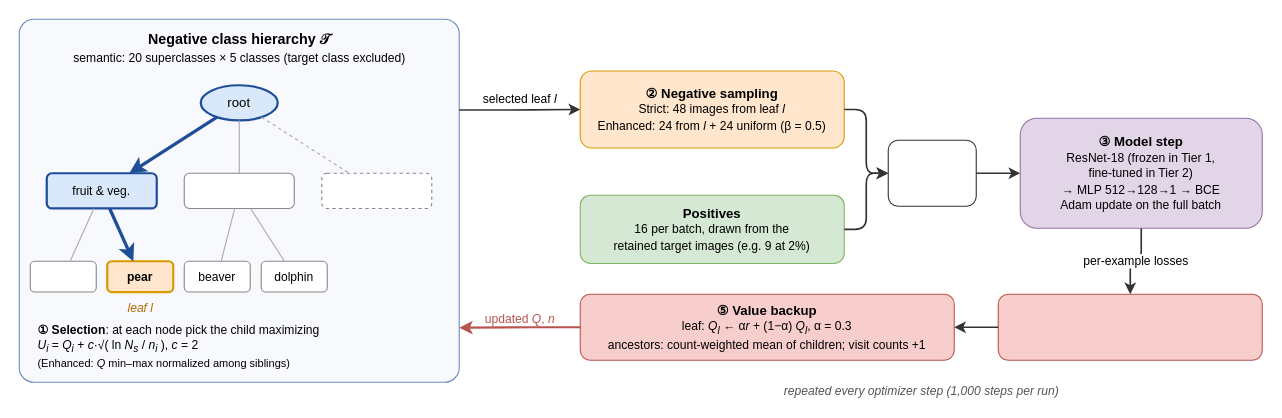
Some shapes in this 1282 by 418 pixel diagram are drawn without their labels. Each missing label, with the centre of its shape:
"aquatic mammals" goes at (238,190).
"Batch 16 + 48" goes at (931,172).
"orange" goes at (62,276).
"… (18 more)" goes at (376,190).
"④ Reward r = mean BCE on the negatives mined from l" goes at (1129,326).
